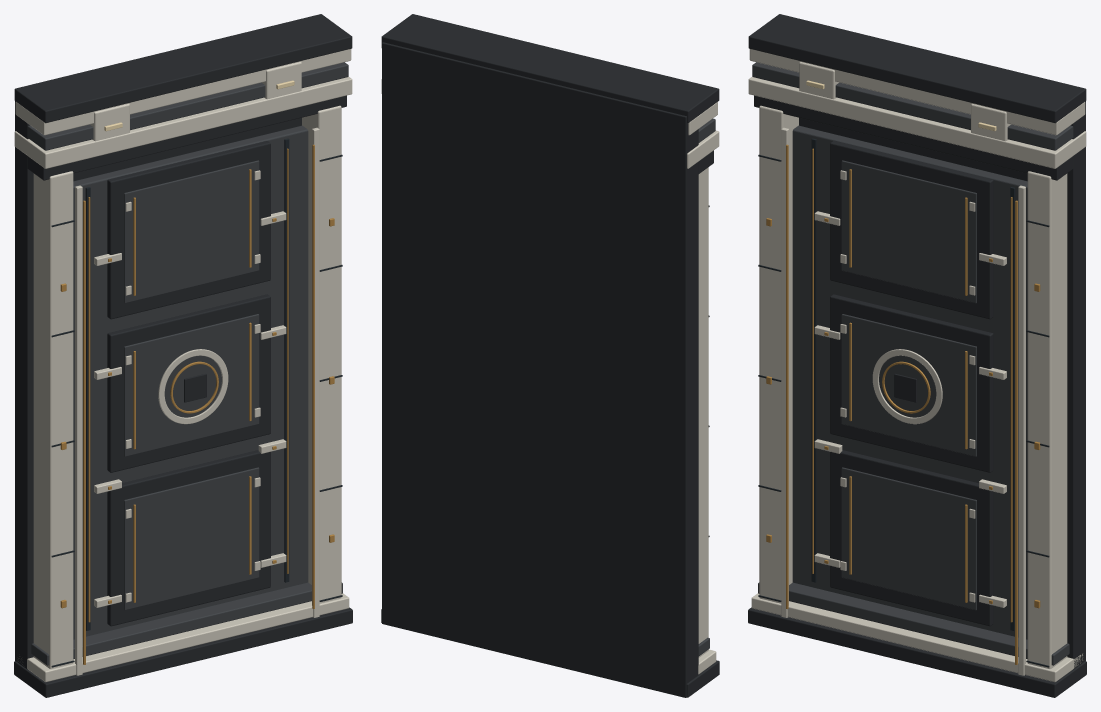
File: SM_Aurelion_KIT_Z12BerthBulkheadService.fbx
3 renders of one model, left to right at view 1: azimuth 30°, elevation 25°; view 2: azimuth 150°, elevation 25°; view 3: azimuth 330°, elevation 25°, orthographic.
Visible parts, largest first — view 1: SM_Aurelion_KIT_Z12BerthBulkheadService; view 2: SM_Aurelion_KIT_Z12BerthBulkheadService; view 3: SM_Aurelion_KIT_Z12BerthBulkheadService.
Boxes of the visible parts, x1,y1,x2,y2 form: SM_Aurelion_KIT_Z12BerthBulkheadService: (14, 14, 352, 697); SM_Aurelion_KIT_Z12BerthBulkheadService: (381, 14, 719, 697); SM_Aurelion_KIT_Z12BerthBulkheadService: (748, 14, 1086, 697).
Size of the model in its own units: 415 by 78.15 by 757.
